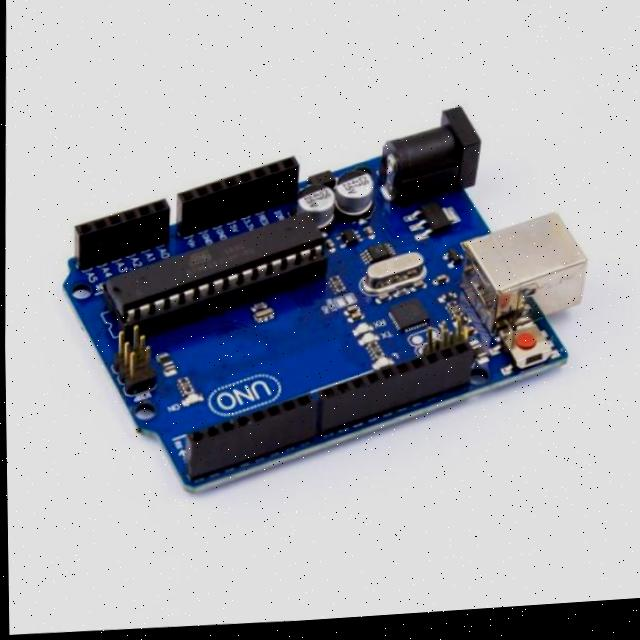Arduino: (14, 72, 640, 523)
